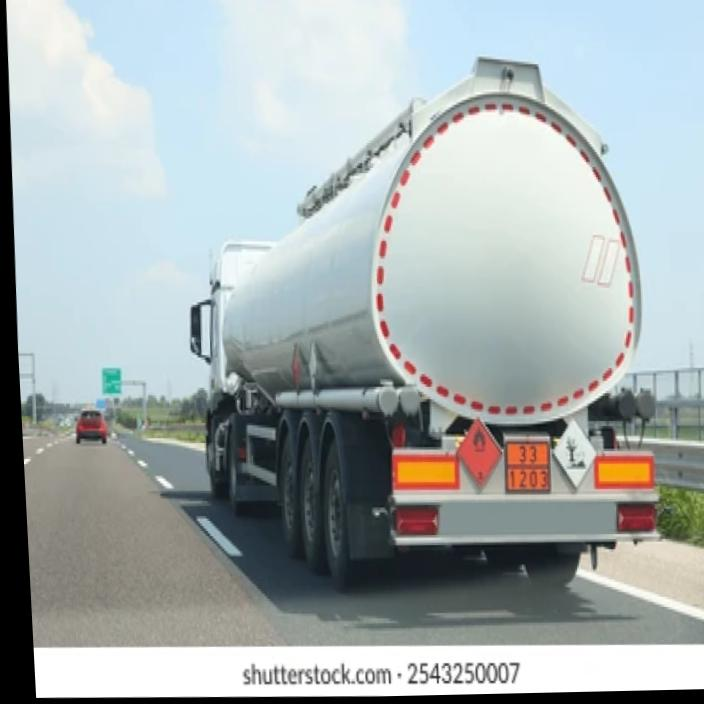can and bottle trash cans: (455, 415, 505, 491)
